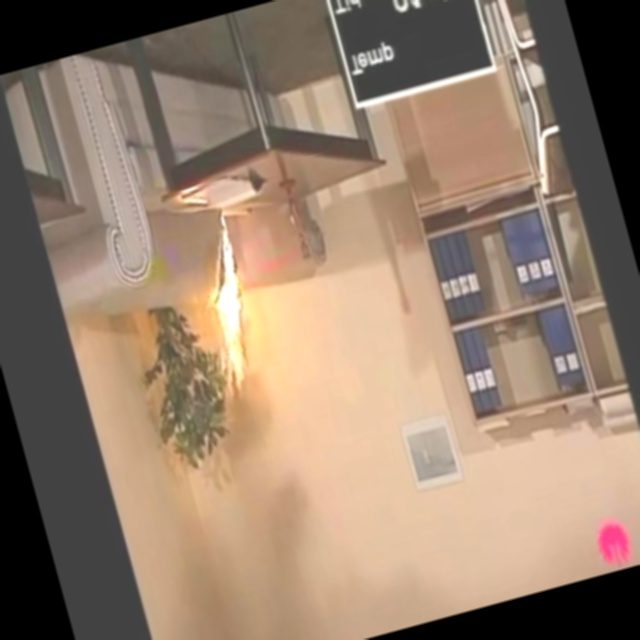fire: (173, 209, 310, 396)
